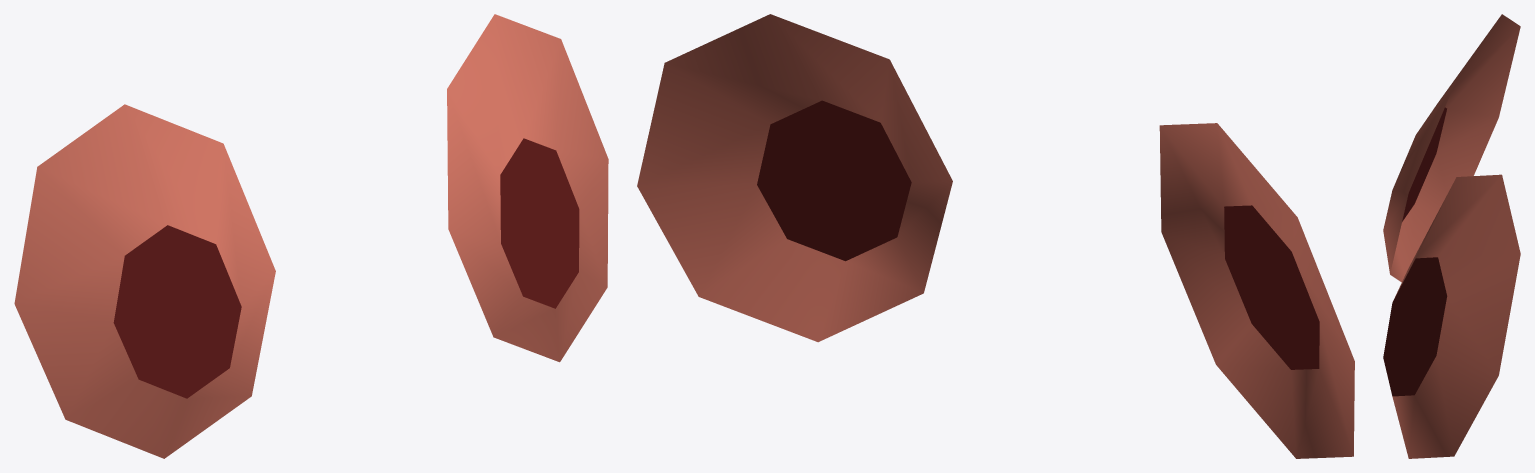
Rendered from Slime_Lava.glb.
3 renders of one model, left to right at view 1: azimuth 30°, elevation 25°; view 2: azimuth 150°, elevation 25°; view 3: azimuth 270°, elevation 25°, orthographic. The views are drawn at different scales.
Visible parts, largest first — view 1: Slime_Lava; view 2: Slime_Lava; view 3: Slime_Lava.
Boxes of the visible parts, bbox=[...] form: Slime_Lava: bbox=[14, 14, 608, 458]; Slime_Lava: bbox=[637, 14, 1354, 458]; Slime_Lava: bbox=[1383, 14, 1520, 458].
Size of what is drawn, in the model's own units: 0.5263 by 0.2652 by 0.1186.
